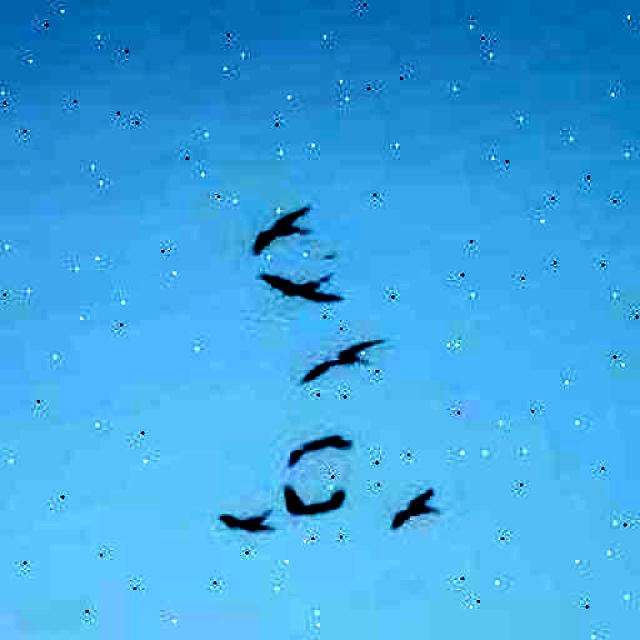airplane: (252, 256, 341, 316), (288, 338, 389, 388), (241, 201, 319, 255), (280, 471, 348, 521), (280, 428, 356, 470), (381, 485, 445, 531), (216, 502, 276, 541)
